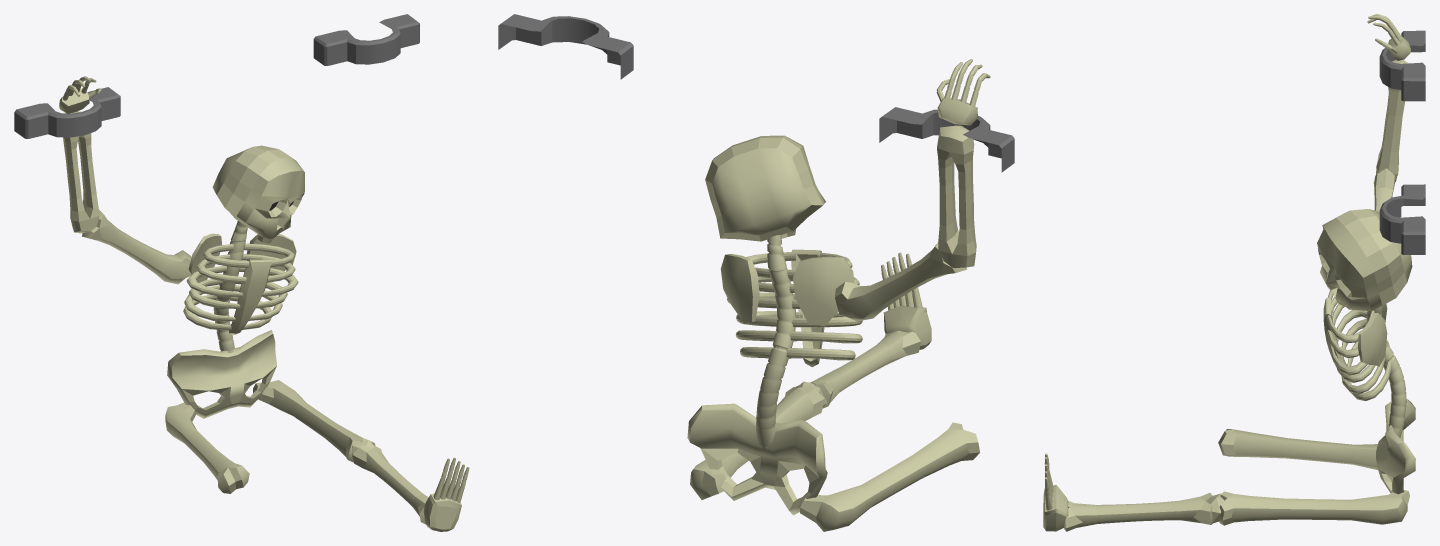
File: Cadaver2.fbx
3 renders of one model, left to right at view 1: azimuth 30°, elevation 25°; view 2: azimuth 150°, elevation 25°; view 3: azimuth 270°, elevation 25°, orthographic. The views are drawn at different scales.
Visible parts, largest first — view 1: polySurface143; view 2: polySurface143; view 3: polySurface143.
Boxes of the visible parts, x1,y1,x2,y2 form: polySurface143: (14,14,469,531); polySurface143: (498,14,1014,531); polySurface143: (1043,14,1425,531).
Size of the model in its own units: 278 by 262 by 221.
